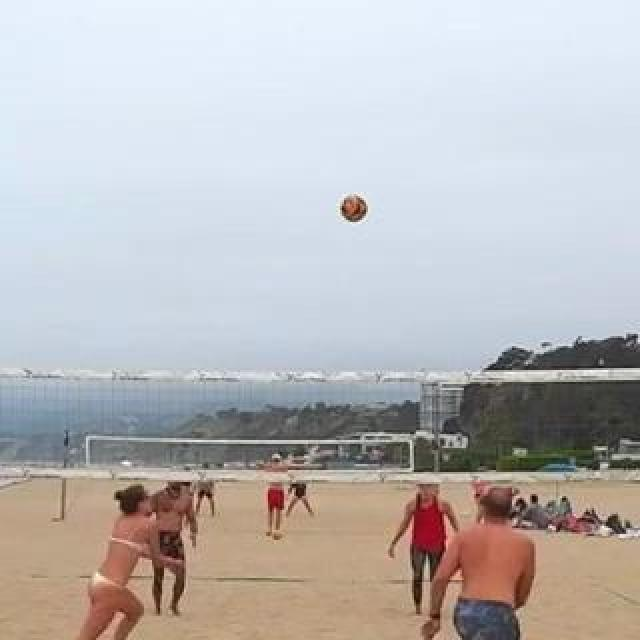volleyball: (338, 193, 368, 223)
